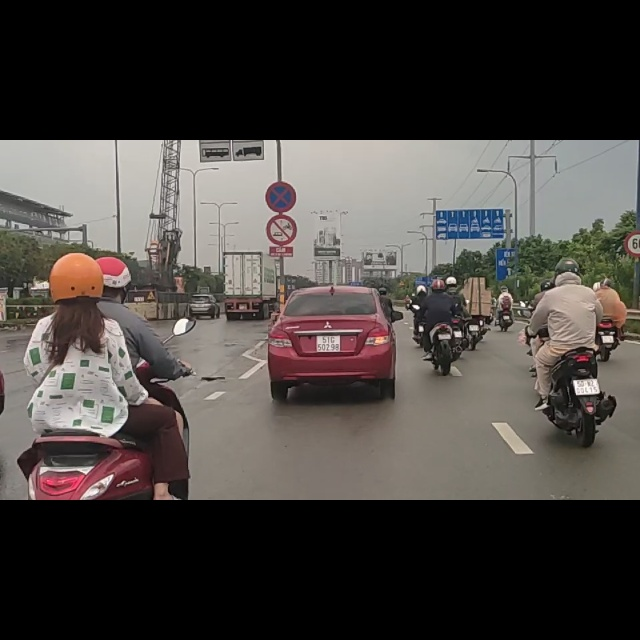bien_cam: (266, 73, 296, 127), (267, 133, 297, 185)
